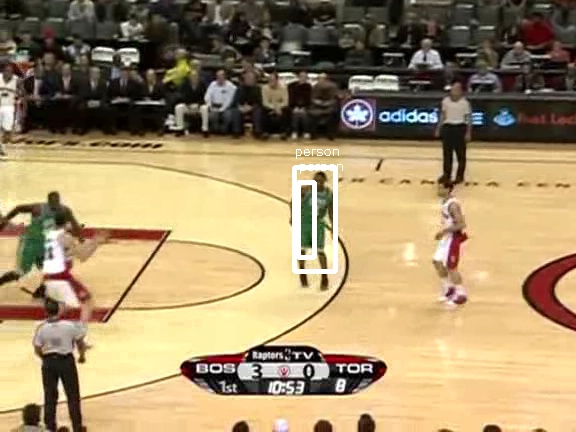person: (298, 176, 332, 257), (297, 176, 331, 257), (299, 176, 333, 257), (298, 175, 332, 256), (298, 177, 332, 258)
target_negative: (43, 226, 502, 422), (273, 112, 463, 304), (73, 33, 251, 185), (168, 376, 574, 380), (242, 68, 357, 81), (254, 289, 455, 295)
